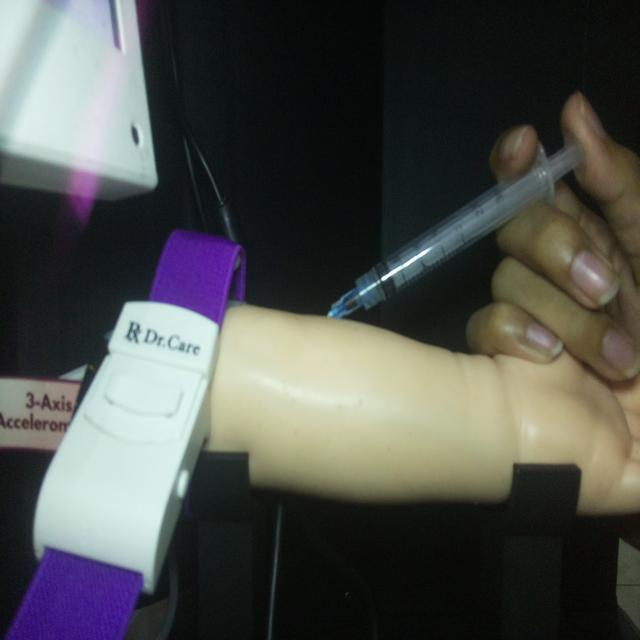25 degrees: (324, 134, 585, 321)
